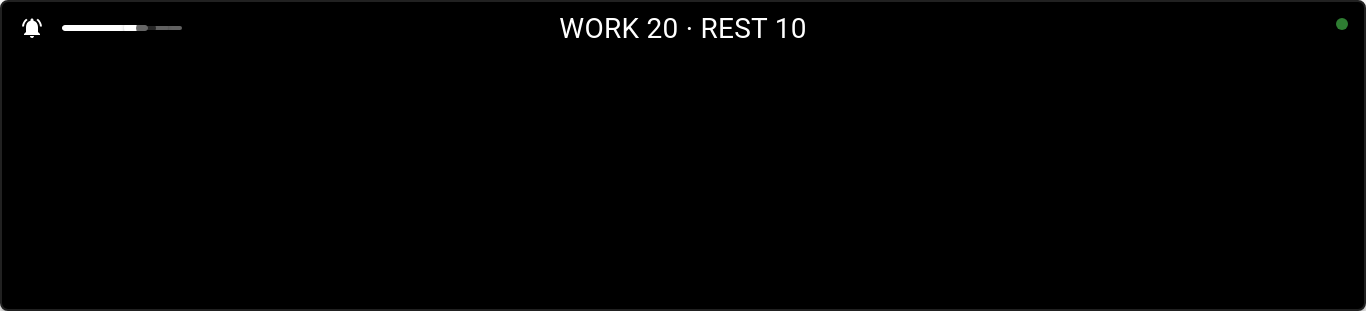
it: TimerDisplay beep volume › mute button toggles the beeps and keeps the chosen level
Later steps or results of the test are not shown.
Click the button named "Mute timer beeps" at coordinates (32, 28), box [10,6,54,50]
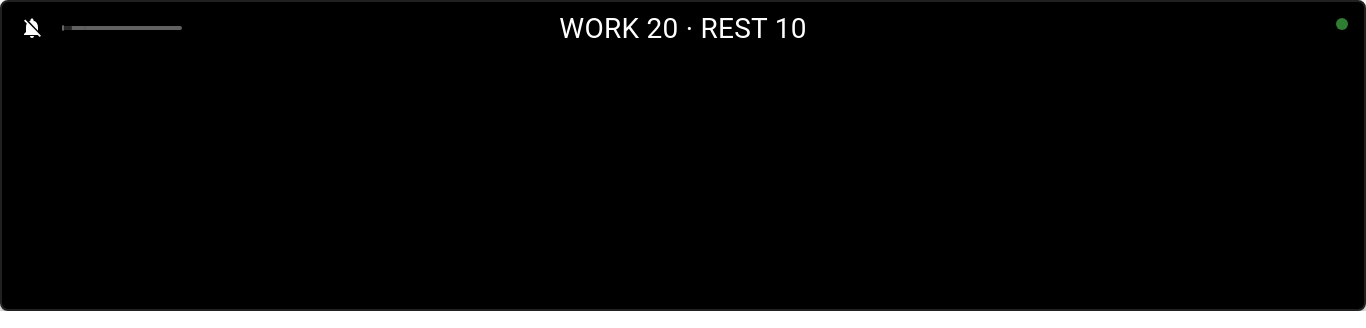
Check: the slider named "Timer beep volume" holds "0", box [52,18,72,38]
